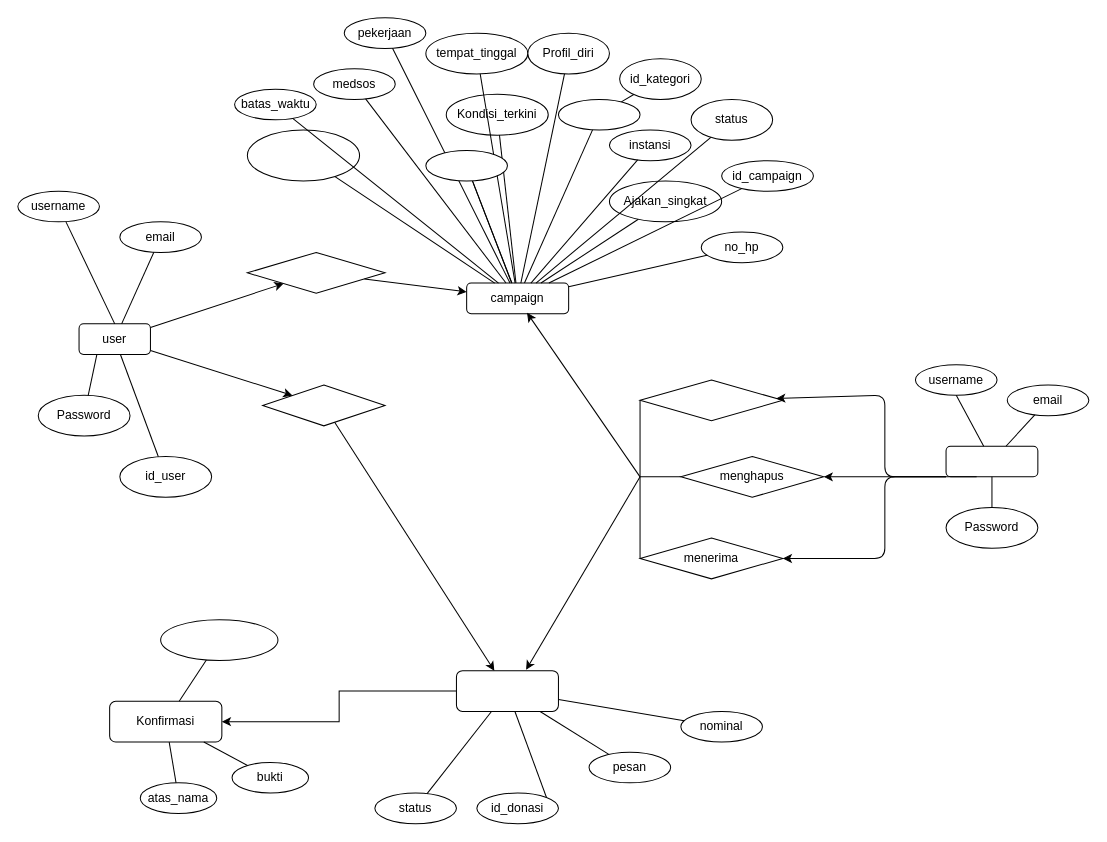
Image size: 1107x842. Some labels were removed from this diagram. Here are the shapes that lost their labels. From the top down, the box of each, then its label:
(557, 98, 640, 130): kategori
(246, 129, 360, 181): Penerima_manfaat
(425, 149, 507, 181): judul
(246, 251, 385, 293): membuat
(262, 384, 385, 426): melakukan
(639, 379, 783, 421): menolak
(945, 445, 1038, 477): Developer
(160, 619, 278, 660): id_konfirmasi
(455, 670, 558, 711): Donasi
